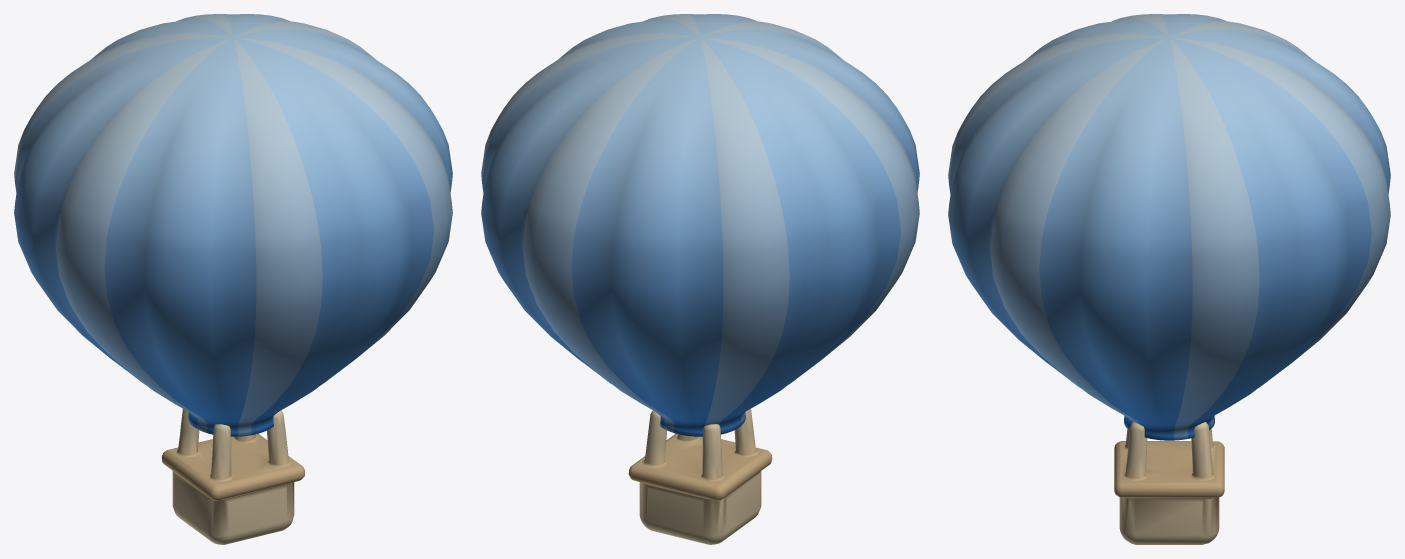
The model's file is BalloonShield.fbx.
3 views of the same model, side by side, from view 1: azimuth 30°, elevation 25°; view 2: azimuth 150°, elevation 25°; view 3: azimuth 270°, elevation 25° (orthographic).
Parts seen in each view (by area): view 1: Body; view 2: Body; view 3: Body.
Boxes of the visible parts, bbox=[...] form: Body: bbox=[14, 14, 452, 544]; Body: bbox=[481, 14, 919, 544]; Body: bbox=[948, 14, 1390, 544].
Size of the model in its own units: 0.8156 by 1 by 0.8156.
